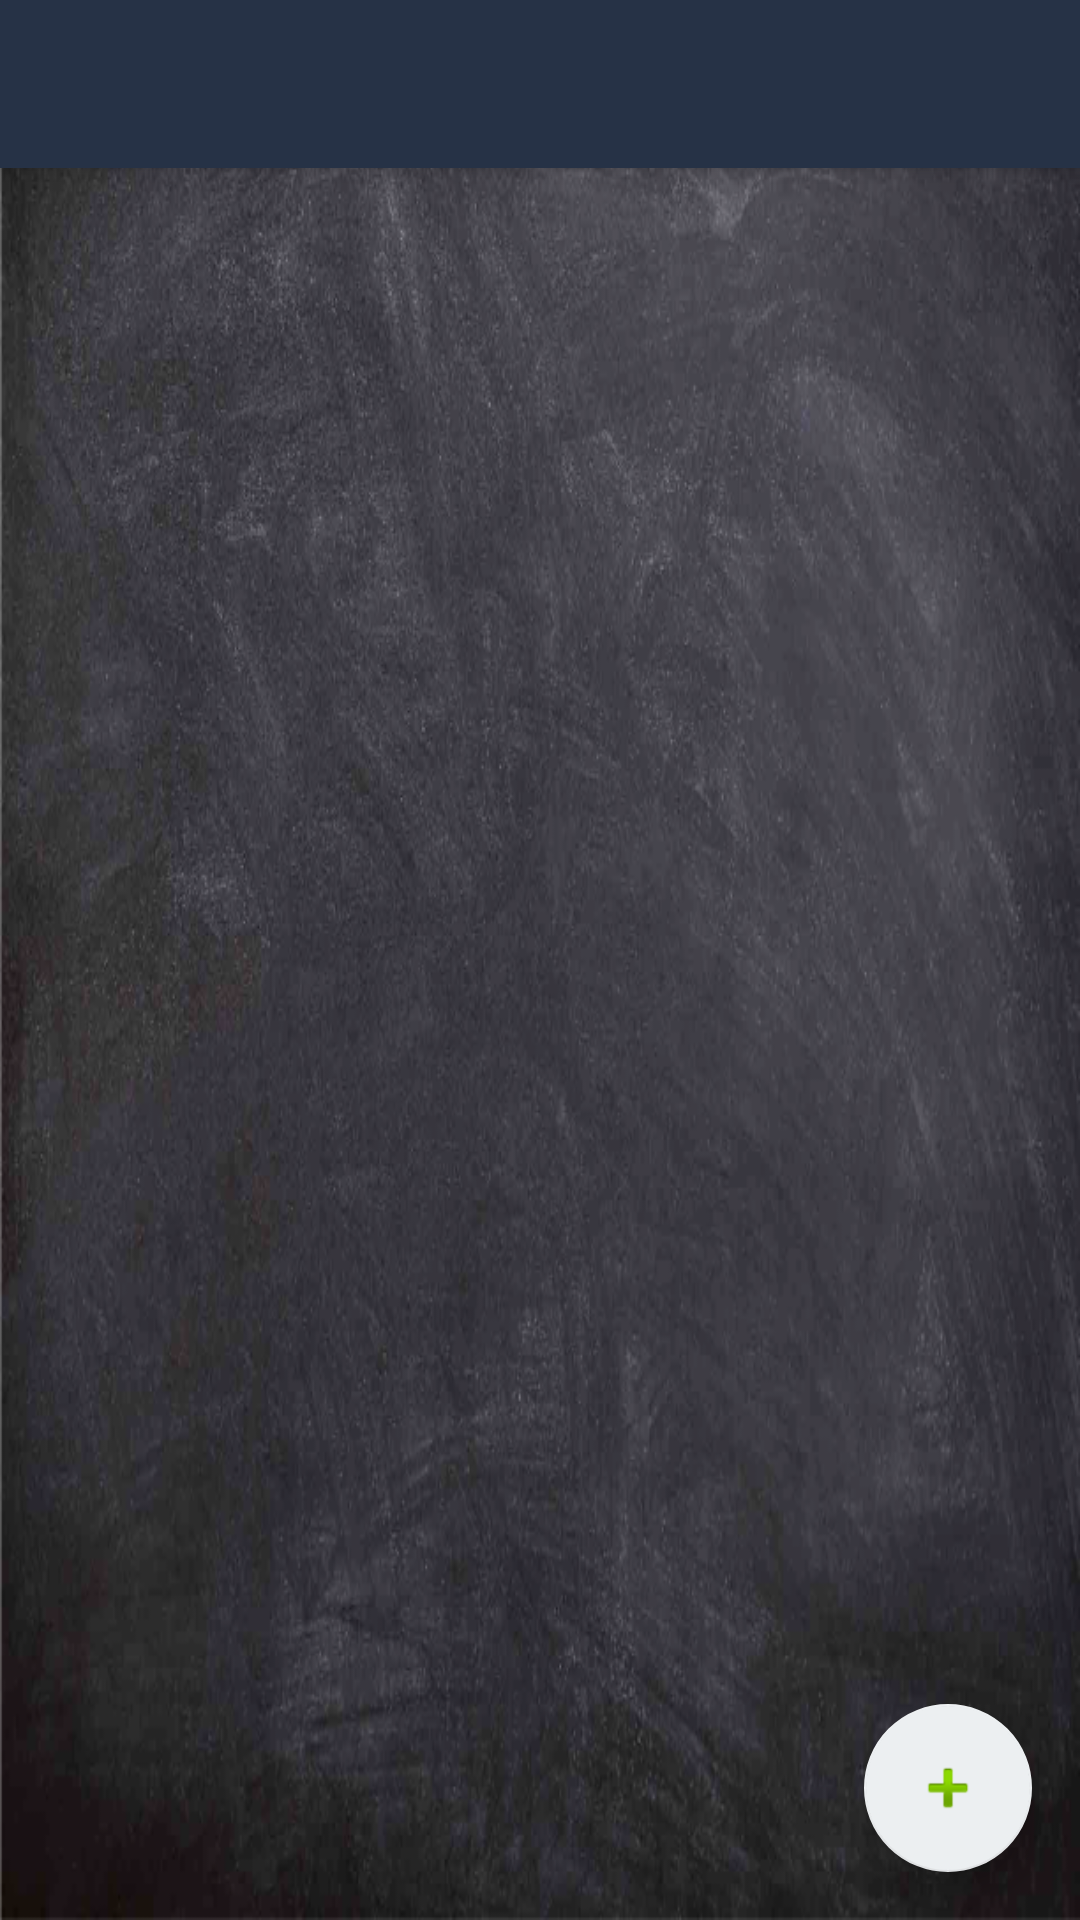

Where to tap for icons on this 1080*1920 app screen, as [x,y]:
add: [948,1788]
